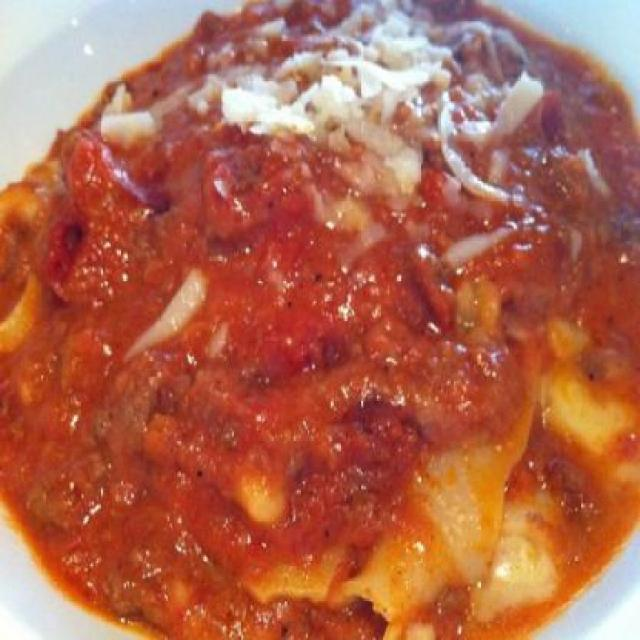Lasagna: (14, 3, 638, 614)
